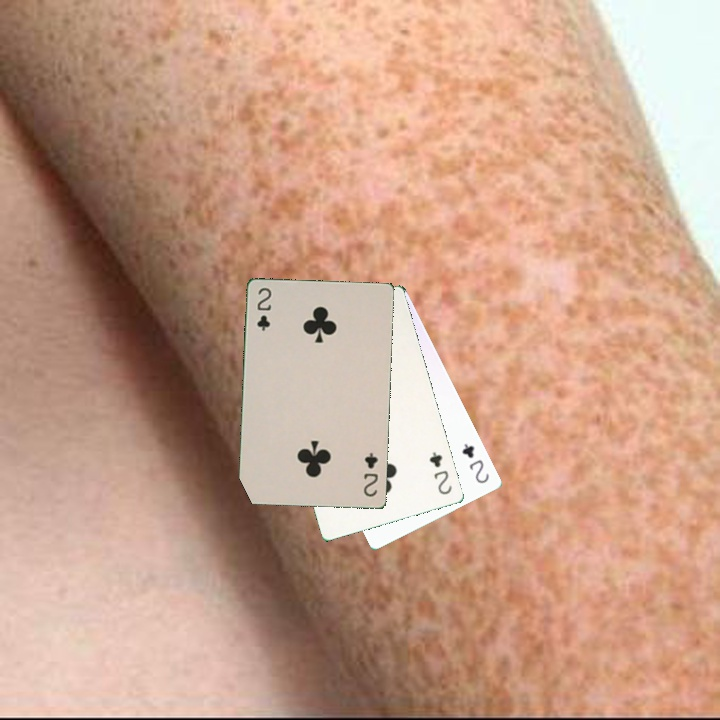2c: (458, 439, 492, 486), (425, 448, 454, 497), (360, 449, 381, 499), (253, 284, 274, 333)
